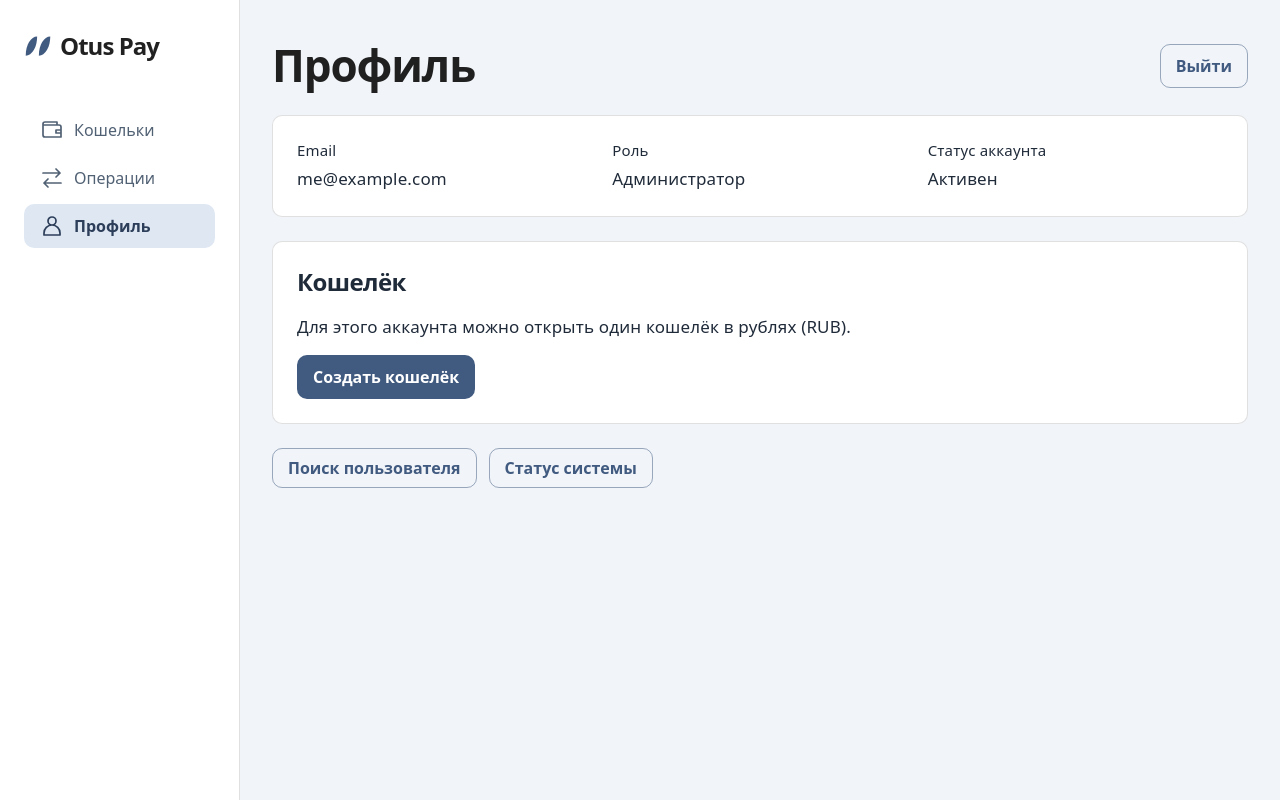
AdminUserPage › looks up a user by UUID only after an active admin submits a valid identifier
Click the link "Поиск пользователя".
click(374, 468)  # box [272,448,477,488]
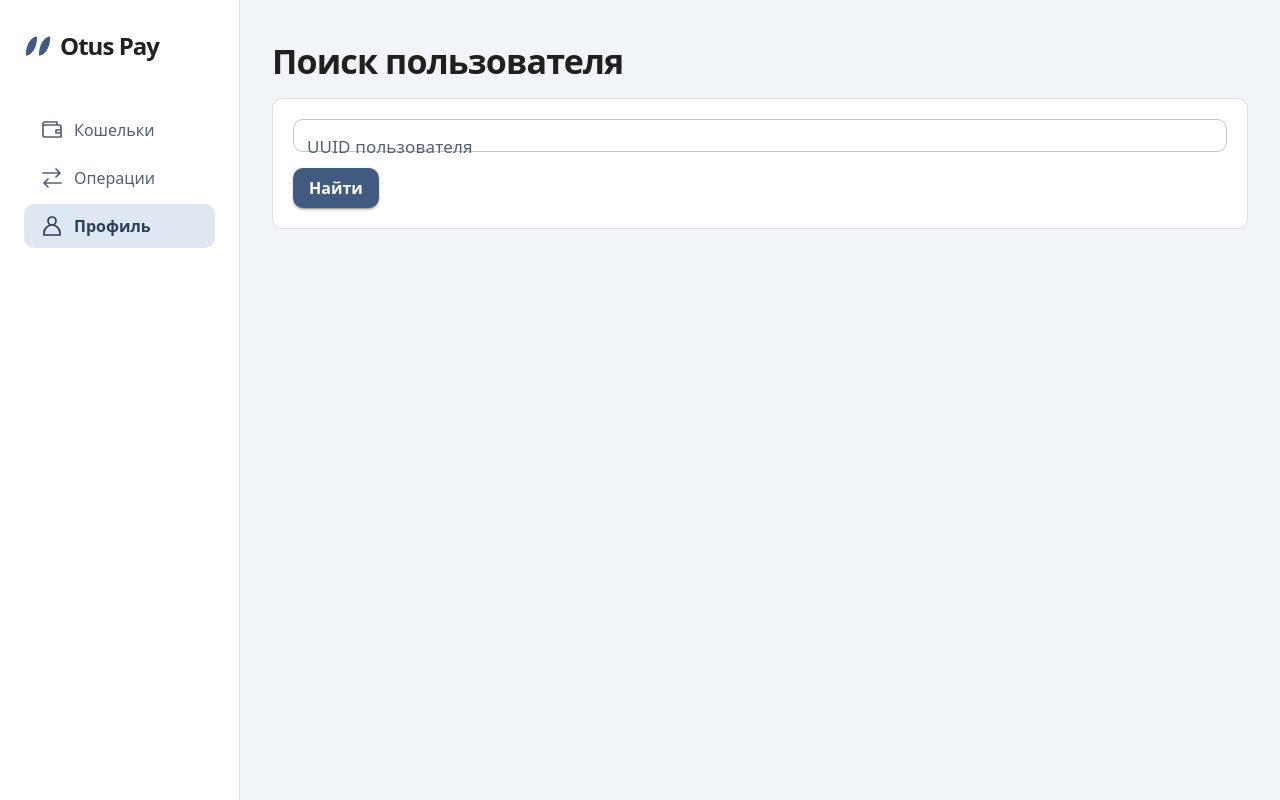
Type "wrong" into the field labelled "UUID пользователя".
click(760, 136); type("wrong")  # box [293,119,1227,152]
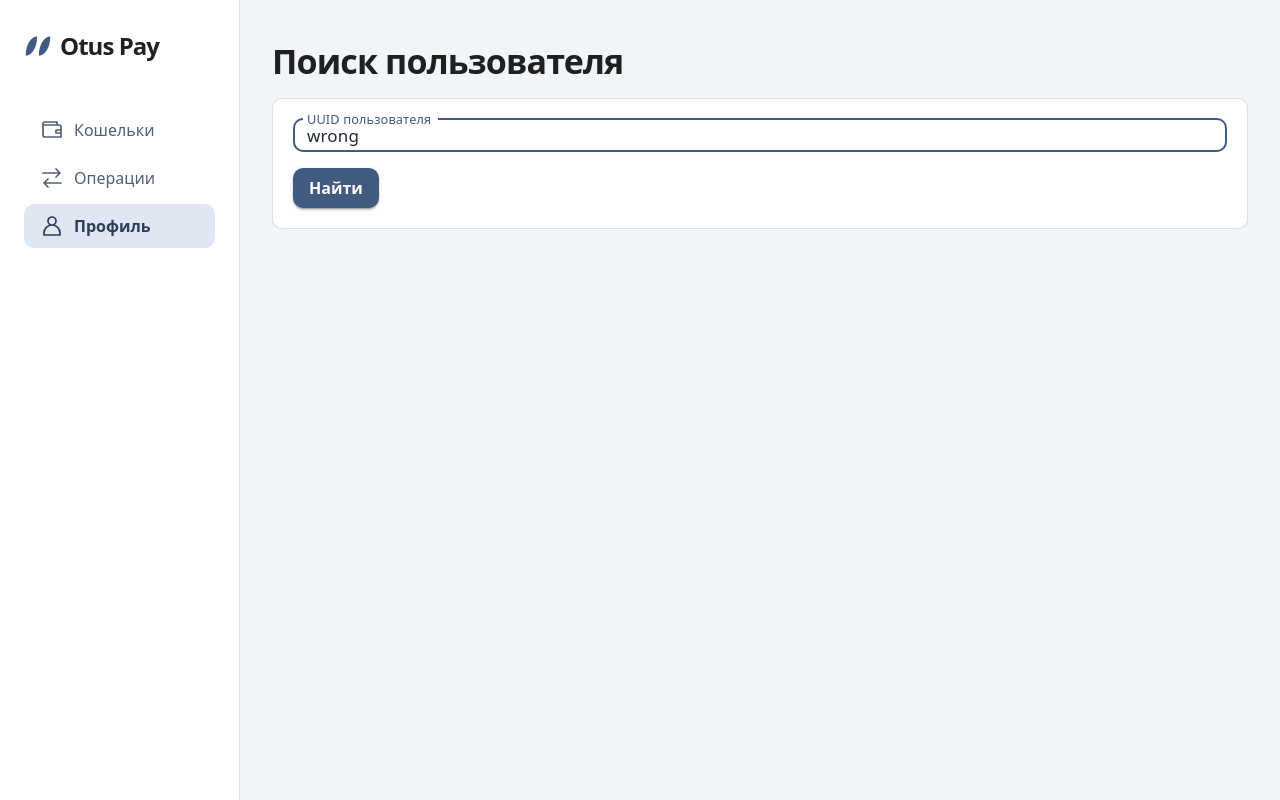
Click the button "Найти".
click(336, 188)  # box [293,168,379,208]
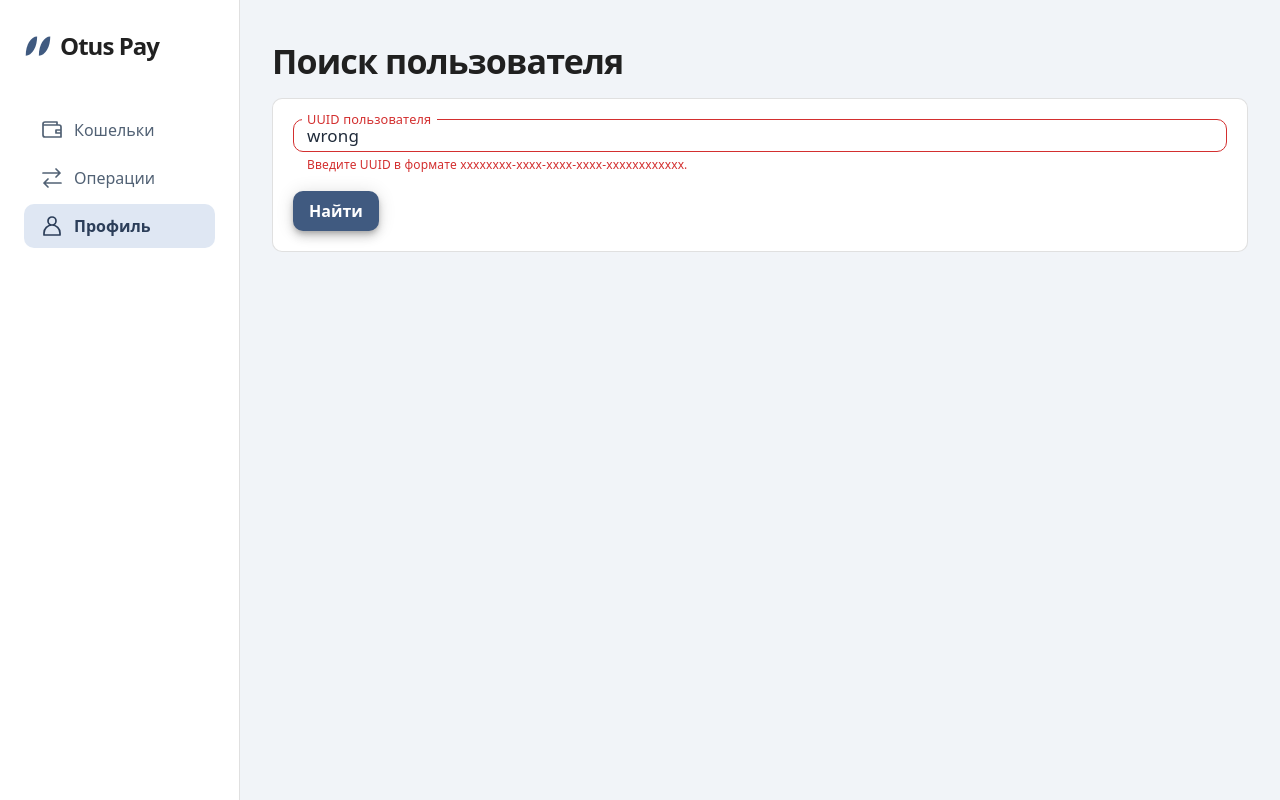
Expected: the text "Введите UUID в формате xxxxxxxx-xxxx-xxxx-xxxx-xxxxxxxxxxxx." is shown, [307,156,688,173]
Replace the text in the field labelled "UUID пользователя" with "f6d4294a-5d21-48d8-84d6-eabfe625e677" at (760, 136), box [293,119,1227,152]
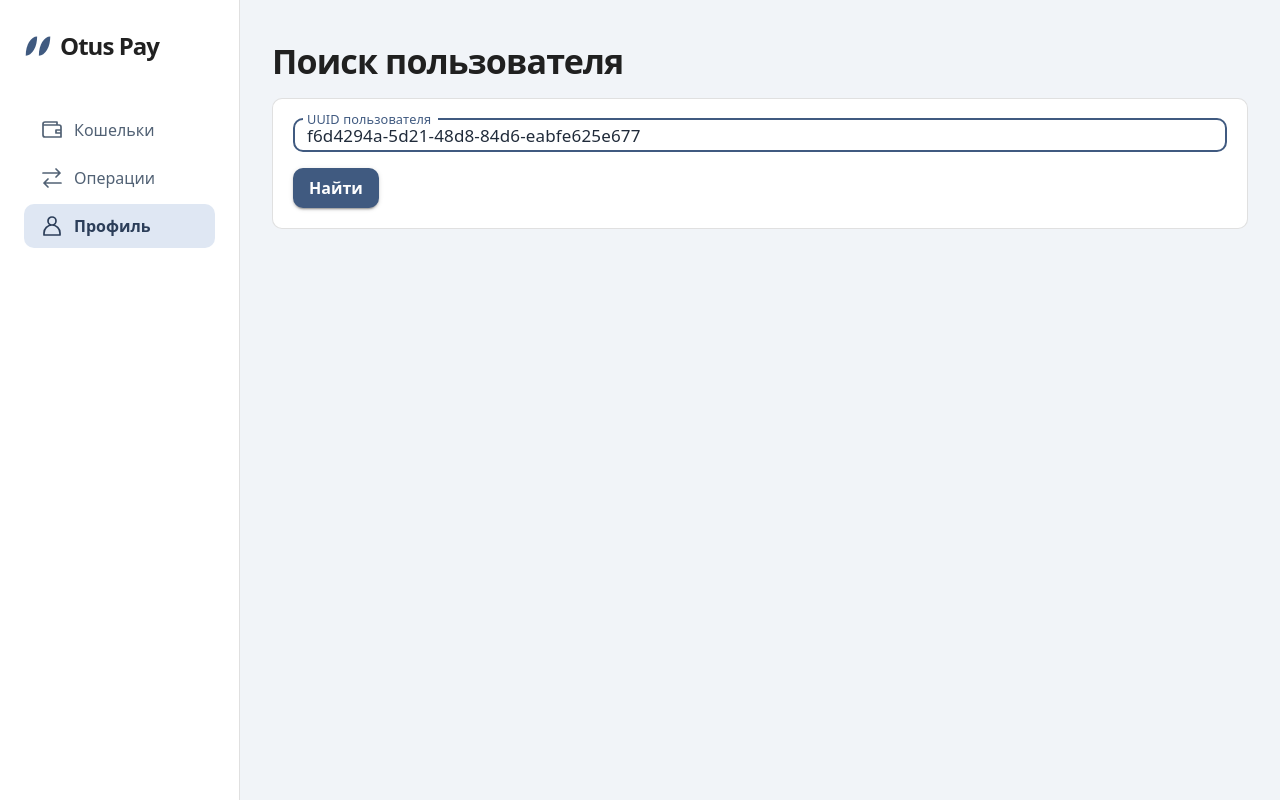
Click the button "Найти".
click(336, 188)  # box [293,168,379,208]
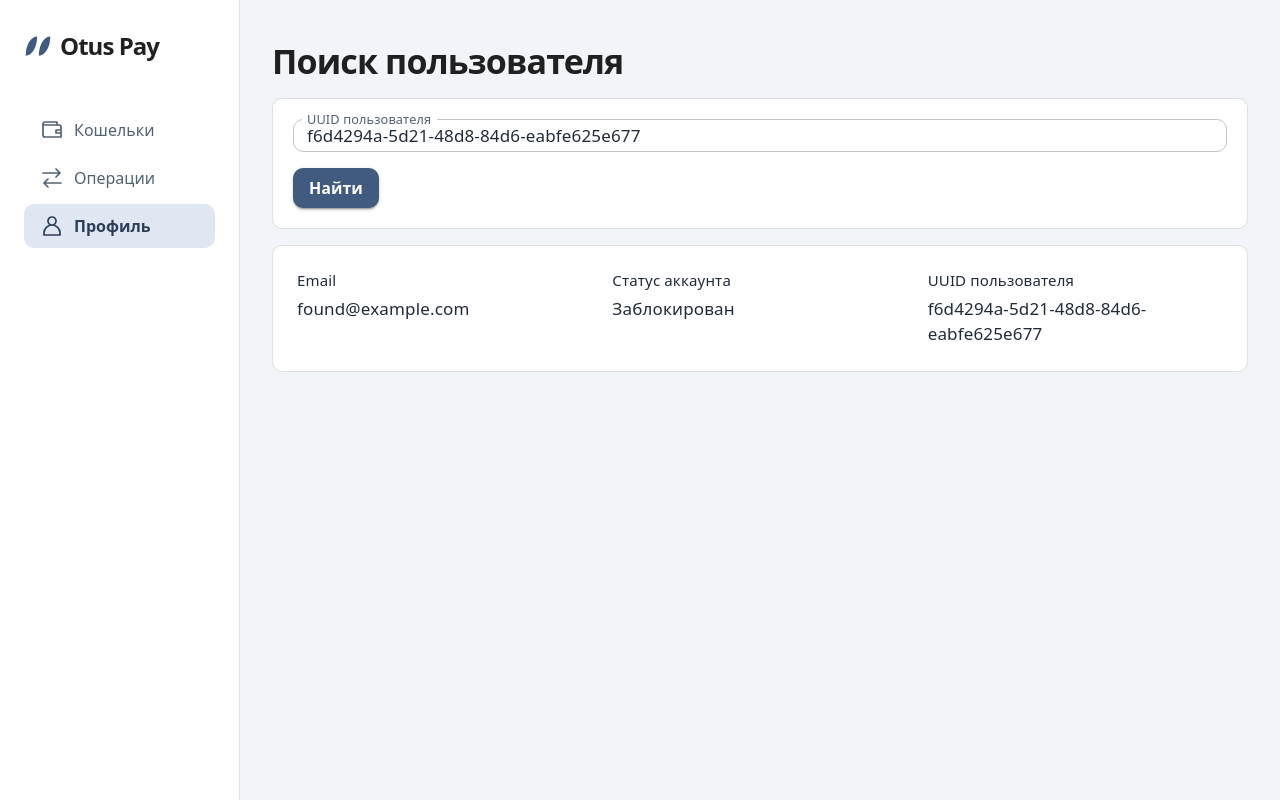
Expected: the text "found@example.com" is shown, [297,297,469,320]
Expected: the text "Заблокирован" is shown, [612,297,735,320]
